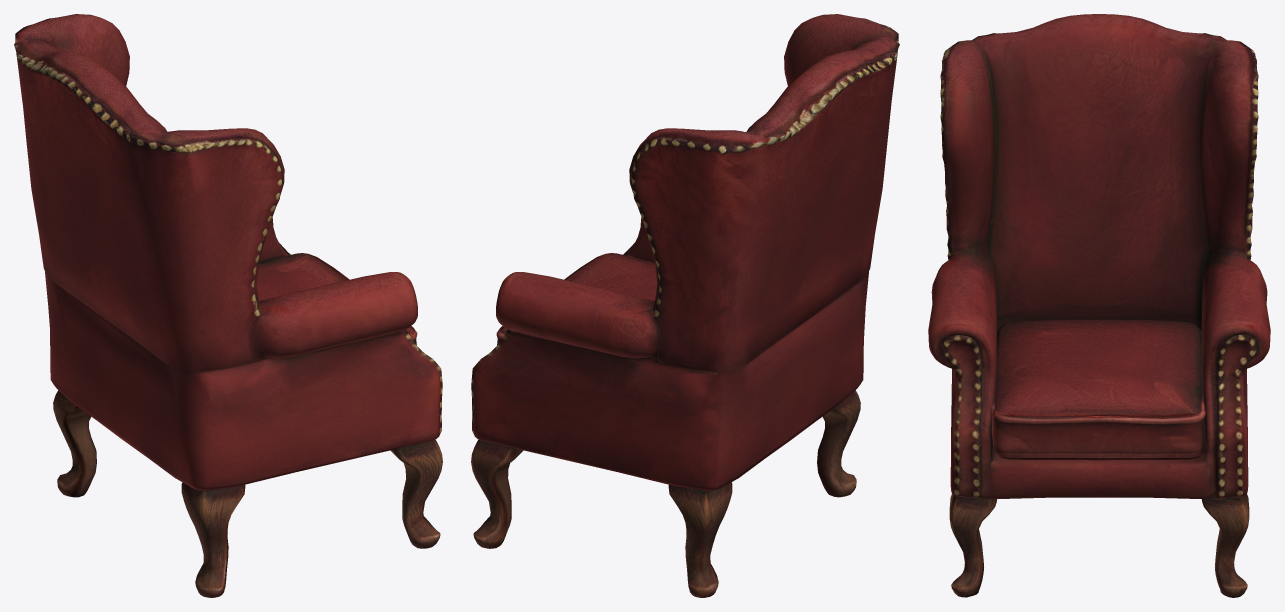
The model's file is SM_Env_BaskervilleWingbackArmchair.fbx.
3 renders of one model, left to right at view 1: azimuth 30°, elevation 25°; view 2: azimuth 150°, elevation 25°; view 3: azimuth 270°, elevation 25°, orthographic. The views are drawn at different scales.
Visible parts, largest first — view 1: SM_Env_BaskervilleWingbackArmchair; view 2: SM_Env_BaskervilleWingbackArmchair; view 3: SM_Env_BaskervilleWingbackArmchair.
Part boxes in pixels (x1,y1,x2,y2): SM_Env_BaskervilleWingbackArmchair: (14,14,442,597); SM_Env_BaskervilleWingbackArmchair: (471,14,899,597); SM_Env_BaskervilleWingbackArmchair: (928,14,1270,597).
Size of the model in its own units: 23.23 by 24.36 by 36.
1 material, 1 textured.
